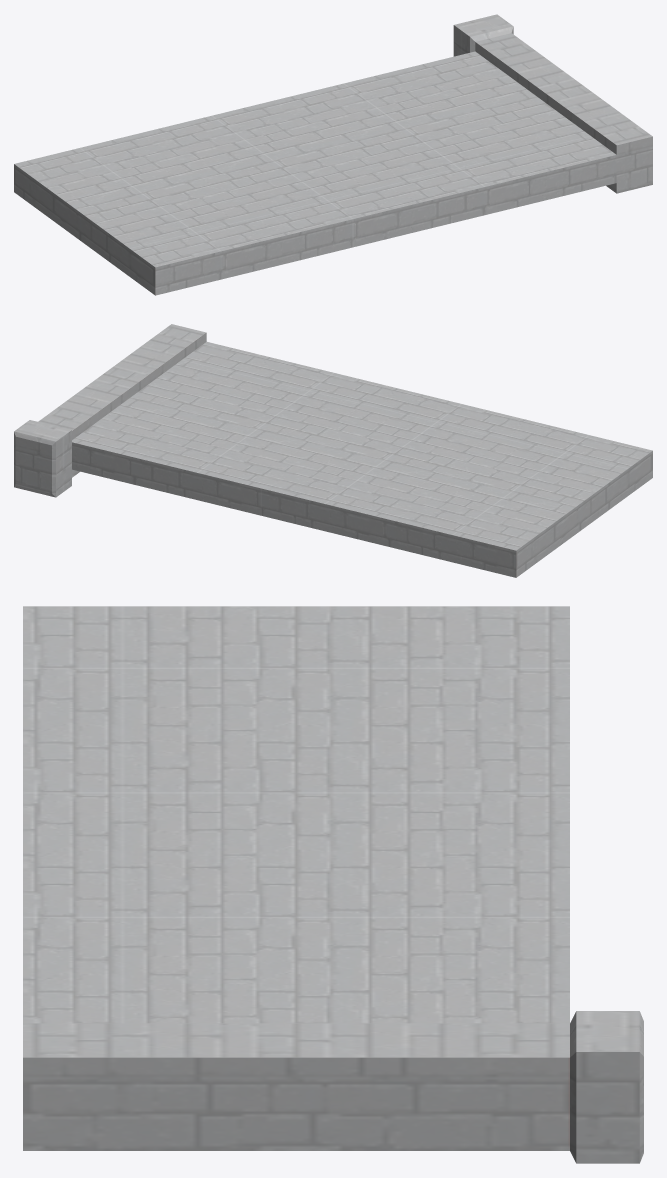
Rendered from wall-white.obj.
3 views of the same model, one above another, from view 1: azimuth 30°, elevation 25°; view 2: azimuth 150°, elevation 25°; view 3: azimuth 270°, elevation 25° (orthographic). The views are drawn at different scales.
Parts seen in each view (by area): view 1: wall-white_Plane.179; view 2: wall-white_Plane.179; view 3: wall-white_Plane.179.
Boxes of the visible parts, x1,y1,x2,y2 form: wall-white_Plane.179: [14, 14, 652, 295]; wall-white_Plane.179: [14, 324, 652, 577]; wall-white_Plane.179: [23, 606, 643, 1163].
Bounding box in the file's own units: 2.17 × 0.2394 × 1.2.
